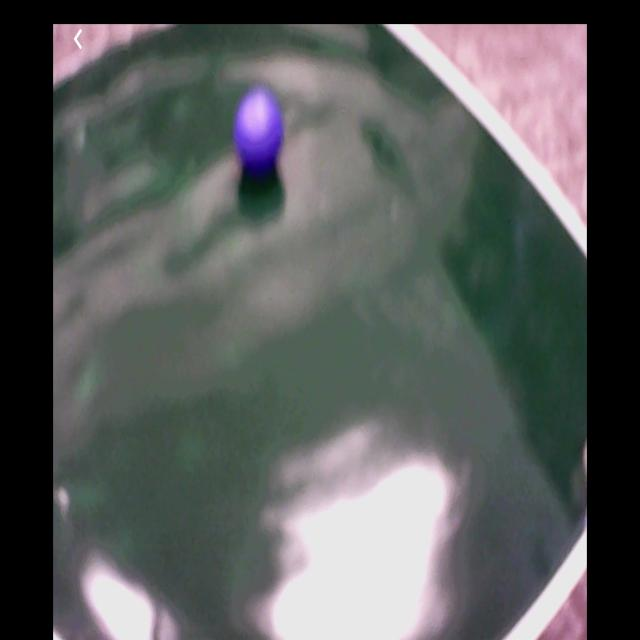ball: (234, 93, 284, 162)
